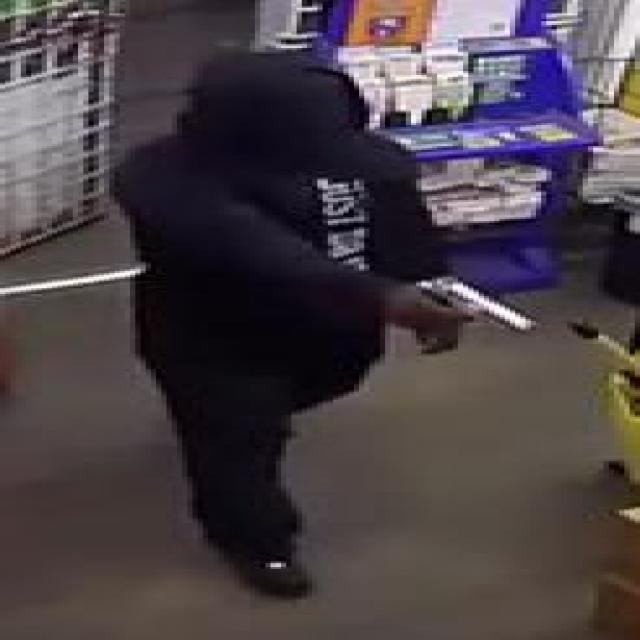Gun: (411, 275, 537, 365)
